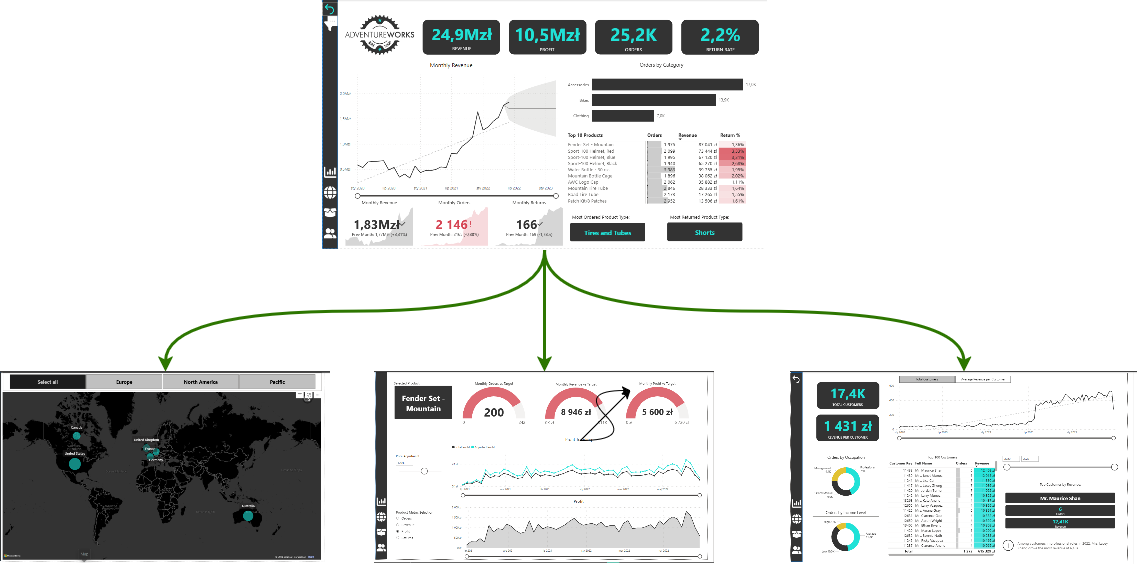

The dashboard page shown, as its layout file describes it:
{"tool":"powerbi","page":{"name":"Executive Dashboard","canvas":[1280,720],"ordinal":0},"visuals":[{"type":"image","title":"AW Logo","box":[44,26.6,245.4,149.3],"z":0},{"type":"cardVisual","fields":{"Data":["Measure Table DAX.Total Revenue"]},"box":[268.5,39.4,270.6,135.9],"z":0,"group":"g2"},{"type":"group","id":"g1","title":"KPI Backgrounds","box":[289.1,56.6,973.3,101.2],"z":0,"group":"g3"},{"type":"shape","box":[538.6,57.1,224.6,100.7],"z":0,"group":"g1"},{"type":"shape","title":"Left Nav Background","box":[0,0,44.4,720],"z":1000},{"type":"group","id":"g2","title":"KPI Values","box":[268.5,39.3,1011.7,136],"z":1000,"group":"g3"},{"type":"cardVisual","fields":{"Data":["Measure Table DAX.Ilość Zamówień"]},"box":[786.9,39.3,226.4,135.5],"z":1000,"group":"g2"},{"type":"shape","box":[788.3,57.1,224.6,100.7],"z":1000,"group":"g1"},{"type":"group","id":"g3","title":"KPI","box":[268.5,39.3,1011.5,136.6],"z":2000},{"type":"cardVisual","fields":{"Data":["Measure Table DAX.Return Rate"]},"box":[1023.1,39.3,257.1,135.5],"z":2000,"group":"g2"},{"type":"shape","box":[289.1,56.6,224.4,101.1],"z":2000,"group":"g1"},{"type":"cardVisual","fields":{"Data":["Measure Table DAX.Total Profit"]},"box":[515.2,39.3,271.1,135.5],"z":3000,"group":"g2"},{"type":"shape","box":[1038,56.6,224.4,101.1],"z":3000,"group":"g1"},{"type":"lineChart","title":"Monthly Revenue","fields":{"Category":["Calendar Lookup.Początek miesiąca"],"Y":["Measure Table DAX.Total Revenue"]},"box":[44.3,176.4,656.1,401.1],"z":3000},{"type":"kpi","title":"Monthly Revenue","fields":{"Goal":["Measure Table DAX.Previus Month Revenue"],"Indicator":["Measure Table DAX.Total Revenue"],"TrendLine":["Calendar Lookup.Początek miesiąca"]},"box":[62.5,577.5,205.6,139.1],"z":4000},{"type":"kpi","title":"Monthly Orders","fields":{"Goal":["Measure Table DAX.Previous Month Orders"],"Indicator":["Measure Table DAX.Ilość Zamówień"],"TrendLine":["Calendar Lookup.Początek miesiąca"]},"box":[279.7,577.5,204.6,139.1],"z":5000},{"type":"kpi","title":"Monthly Returns","fields":{"Goal":["Measure Table DAX.Previous Month Returns"],"Indicator":["Measure Table DAX.Ilość Zwrotów"],"TrendLine":["Calendar Lookup.Początek miesiąca"]},"box":[495.9,577.5,204.6,139.1],"z":6000},{"type":"barChart","title":"Orders by Category","fields":{"Category":["Product Categories Lookup.CategoryName"],"Y":["Measure Table DAX.Ilość Zamówień"]},"box":[700.5,176.4,562.4,200.6],"z":7000},{"type":"pivotTable","fields":{"Rows":["Product Lookup.ProductName"],"Values":["Measure Table DAX.Ilość Zamówień","Measure Table DAX.Total Revenue","Measure Table DAX.Return Rate"]},"box":[700,377.1,551.4,235.7],"z":8000},{"type":"cardVisual","fields":{"Data":["Min(Product Subcategories Lookup.SubcategoryName)"]},"box":[700,628.6,251.4,87.1],"z":9000},{"type":"textbox","box":[717.1,612.9,202.9,34.3],"z":10000},{"type":"cardVisual","fields":{"Data":["Min(Product Subcategories Lookup.SubcategoryName)"]},"box":[981.7,626.7,251.7,88.3],"z":11000},{"type":"textbox","box":[1001.7,613.3,181.7,35],"z":12000},{"type":"actionButton","box":[0,6,44.3,40.3],"z":13000},{"type":"actionButton","box":[0,473.7,44.7,49.4],"z":14000},{"type":"actionButton","box":[0,650,44.7,49.4],"z":15000},{"type":"actionButton","box":[0,591.2,44.7,49.4],"z":16000},{"type":"actionButton","box":[0,532.5,44.7,49.4],"z":17000},{"type":"actionButton","box":[1.2,56.4,43.5,40],"z":18000}]}

Visuals, with their boxes on the page's 1280x720 design canvas (x1, y1, x2, y2). These are canvas units, not pixel positions in the 1138x564 screenshot, which may show the page scaled, cropped or inside an application window:
"AW Logo" image: (44,27,289,176)
cardVisual - Measure Table DAX.Total Revenue: (268,39,539,175)
"KPI Backgrounds" group: (289,57,1262,158)
shape: (539,57,763,158)
"Left Nav Background" shape: (0,0,44,720)
"KPI Values" group: (268,39,1280,175)
cardVisual - Measure Table DAX.Ilość Zamówień: (787,39,1013,175)
shape: (788,57,1013,158)
"KPI" group: (268,39,1280,176)
cardVisual - Measure Table DAX.Return Rate: (1023,39,1280,175)
shape: (289,57,514,158)
cardVisual - Measure Table DAX.Total Profit: (515,39,786,175)
shape: (1038,57,1262,158)
"Monthly Revenue" lineChart: (44,176,700,578)
"Monthly Revenue" kpi: (62,578,268,717)
"Monthly Orders" kpi: (280,578,484,717)
"Monthly Returns" kpi: (496,578,700,717)
"Orders by Category" barChart: (700,176,1263,377)
pivotTable - Product Lookup.ProductName x Measure Table DAX.Ilość Zamówień: (700,377,1251,613)
cardVisual - Min(Product Subcategories Lookup.SubcategoryName): (700,629,951,716)
textbox: (717,613,920,647)
cardVisual - Min(Product Subcategories Lookup.SubcategoryName): (982,627,1233,715)
textbox: (1002,613,1183,648)
actionButton: (0,6,44,46)
actionButton: (0,474,45,523)
actionButton: (0,650,45,699)
actionButton: (0,591,45,641)
actionButton: (0,532,45,582)
actionButton: (1,56,45,96)
